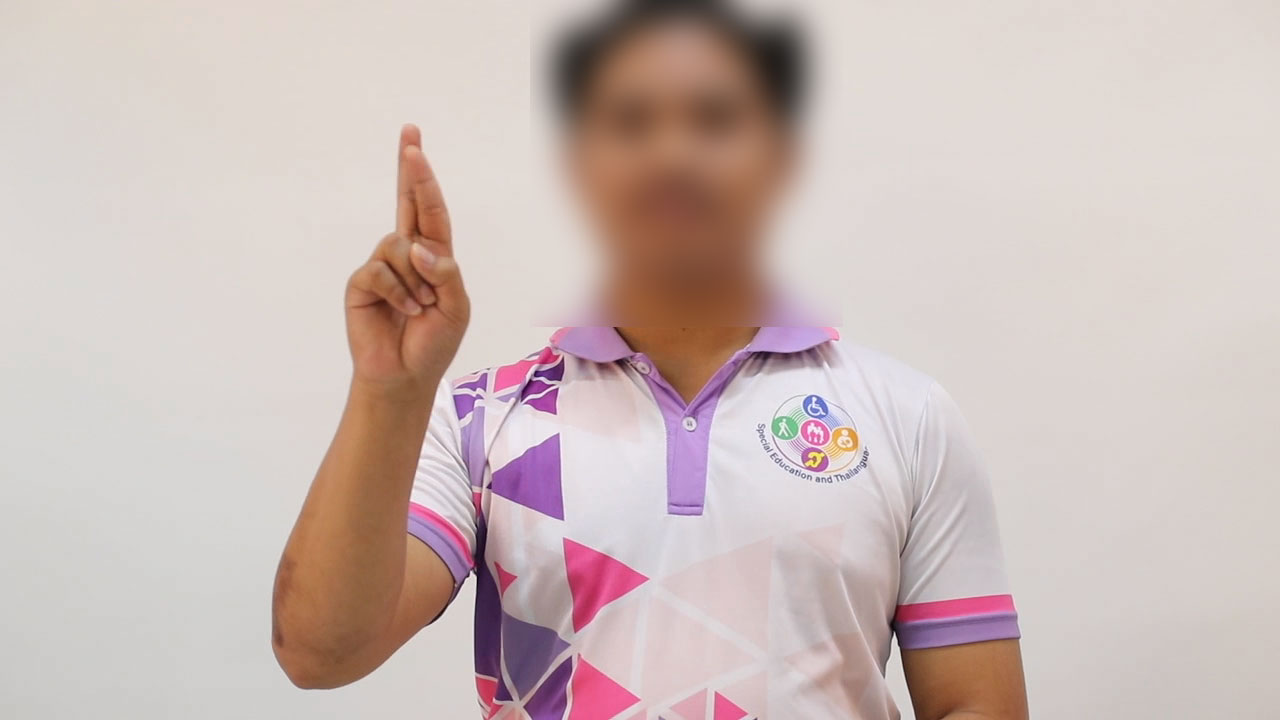rao: (310, 118, 474, 396)
